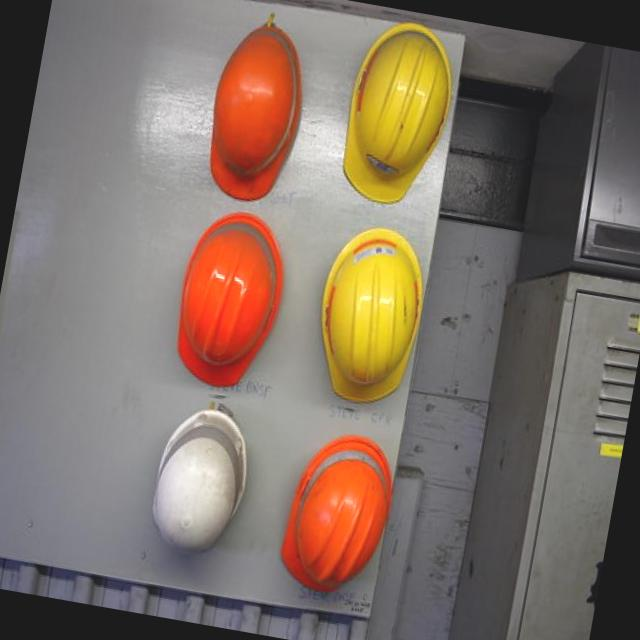helmet: (334, 15, 462, 208), (307, 220, 433, 407), (198, 8, 316, 204), (169, 204, 291, 391), (275, 428, 401, 600), (142, 394, 259, 560)
